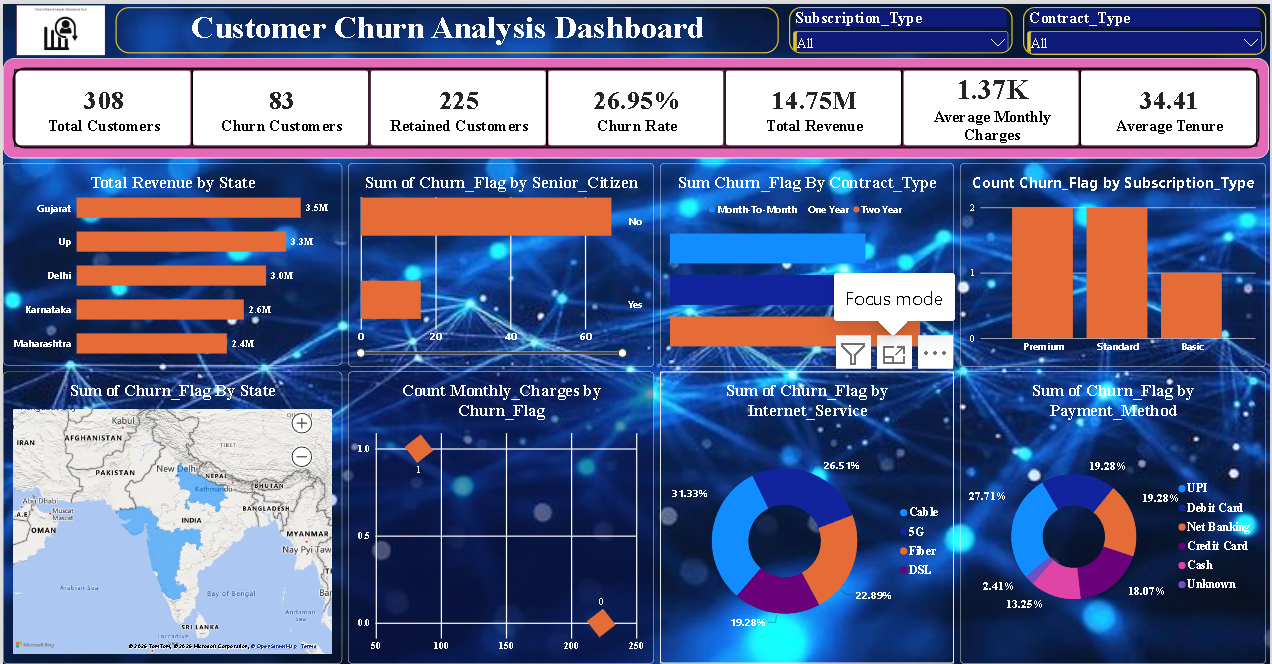

The page's visual inventory and layout, read from the dashboard file:
{"tool":"powerbi","page":{"name":"Page 1","canvas":[2111,1100],"ordinal":0},"visuals":[{"type":"cardVisual","fields":{"Data":["Dax Measure.Total Customers","Dax Measure.Churn Customers","Clean_Churn_Data.Retained Customers","Clean_Churn_Data.Churn Rate","Dax Measure.Total Revenue","Dax Measure.Average Monthly Charges","Dax Measure.Average Tenure"]},"box":[0,90,2110,167.5],"z":0},{"type":"textbox","title":"Customer Churn Analysis Dashboard","box":[187.5,5,1102.5,77.5],"z":1000},{"type":"clusteredBarChart","title":"Sum Churn_Flag By Contract_Type","fields":{"Series":["Clean_Churn_Data.Contract_Type"],"Y":["Sum(Clean_Churn_Data.Churn_Flag)"]},"box":[1095,265,490,340],"z":2000},{"type":"columnChart","title":"Count Churn_Flag by Subscription_Type","fields":{"Category":["Clean_Churn_Data.Subscription_Type"],"Y":["Count(Clean_Churn_Data.Churn_Flag)"]},"box":[1595,265,510,340],"z":3000},{"type":"filledMap","title":"Sum of Churn_Flag By State","fields":{"Category":["Clean_Churn_Data.State"]},"box":[0,612.5,565,487.5],"z":4000},{"type":"scatterChart","title":"Count Monthly_Charges by Churn_Flag","fields":{"X":["Count(Clean_Churn_Data.Monthly_Charges)"],"Y":["Clean_Churn_Data.Churn_Flag"]},"box":[575,612.5,510,487.5],"z":5000},{"type":"barChart","fields":{"Category":["Clean_Churn_Data.State"],"Y":["Dax Measure.Total Revenue"]},"box":[0,265,565,337.5],"z":6000},{"type":"donutChart","title":"Sum of Churn_Flag by Payment_Method","fields":{"Category":["Clean_Churn_Data.Payment_Method"],"Y":["Sum(Clean_Churn_Data.Churn_Flag)"]},"box":[1595,612.5,510,487.5],"z":7000},{"type":"barChart","fields":{"Category":["Clean_Churn_Data.Senior_Citizen"],"Y":["Sum(Clean_Churn_Data.Churn_Flag)"]},"box":[575,265,510,340],"z":8000},{"type":"slicer","fields":{"Values":["Clean_Churn_Data.Subscription_Type"]},"box":[1310,5,372.5,77.5],"z":9000},{"type":"donutChart","title":"Sum of Churn_Flag by Internet_Service","fields":{"Category":["Clean_Churn_Data.Internet_Service"],"Y":["Sum(Clean_Churn_Data.Churn_Flag)"]},"box":[1095,612.5,490,487.5],"z":10000},{"type":"image","box":[22.5,2.5,147.5,82.5],"z":11000},{"type":"slicer","fields":{"Values":["Clean_Churn_Data.Contract_Type"]},"box":[1700,5,405,80],"z":13000}]}

Visuals, with their boxes in screenshot pixels (x1, y1, x2, y2), scaled from the page's 2111x1100 canvas onto the 1272x664 screenshot:
cardVisual - Dax Measure.Total Customers x Dax Measure.Churn Customers: 0, 54, 1271, 155
"Customer Churn Analysis Dashboard" textbox: 113, 3, 777, 50
"Sum Churn_Flag By Contract_Type" clusteredBarChart: 660, 160, 955, 365
"Count Churn_Flag by Subscription_Type" columnChart: 961, 160, 1268, 365
"Sum of Churn_Flag By State" filledMap: 0, 370, 340, 663
"Count Monthly_Charges by Churn_Flag" scatterChart: 346, 370, 654, 663
barChart - Clean_Churn_Data.State x Dax Measure.Total Revenue: 0, 160, 340, 364
"Sum of Churn_Flag by Payment_Method" donutChart: 961, 370, 1268, 663
barChart - Clean_Churn_Data.Senior_Citizen x Sum(Clean_Churn_Data.Churn_Flag): 346, 160, 654, 365
slicer - Clean_Churn_Data.Subscription_Type: 789, 3, 1014, 50
"Sum of Churn_Flag by Internet_Service" donutChart: 660, 370, 955, 663
image: 14, 2, 102, 51
slicer - Clean_Churn_Data.Contract_Type: 1024, 3, 1268, 51
